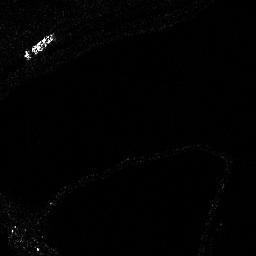ship: (22, 32, 58, 60)
